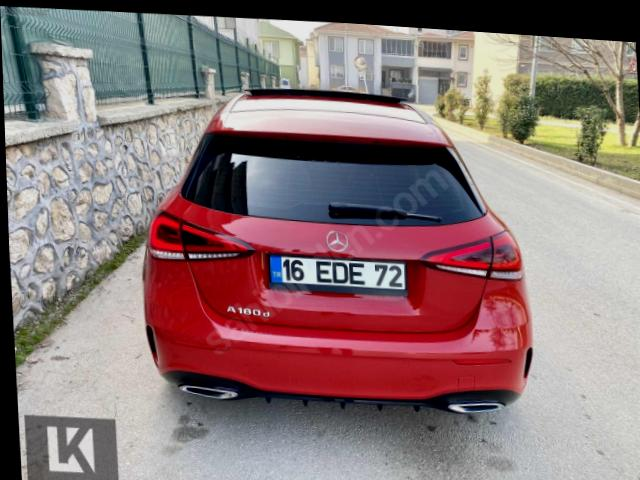plaka: (269, 255, 406, 294)
